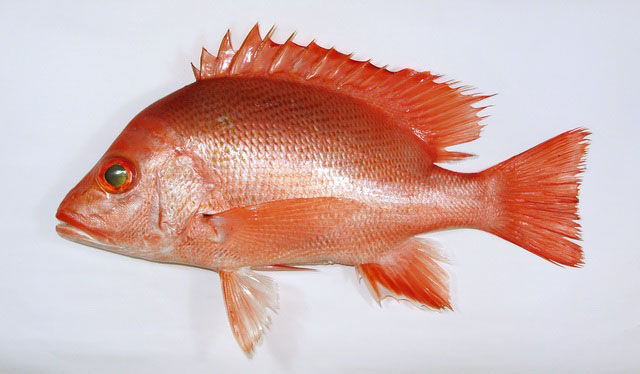fish: (56, 21, 593, 361)
